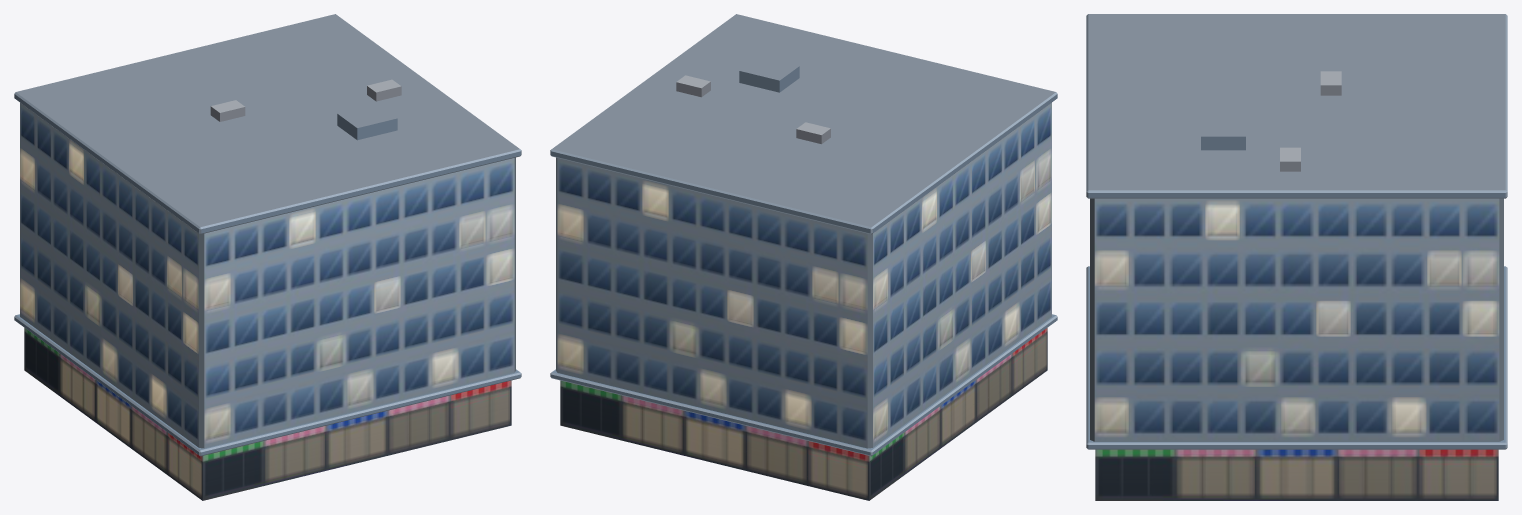
File: building-28x28x24.glb
The picture shows the model from 3 angles, left to right: view 1: azimuth 30°, elevation 25°; view 2: azimuth 150°, elevation 25°; view 3: azimuth 270°, elevation 25°; orthographic projection. The views are drawn at different scales.
Parts seen in each view (by area): view 1: building-28x28x24; view 2: building-28x28x24; view 3: building-28x28x24.
Boxes of the visible parts, x1=… form: building-28x28x24: x1=14, y1=14, x2=521, y2=500; building-28x28x24: x1=550, y1=14, x2=1057, y2=500; building-28x28x24: x1=1086, y1=14, x2=1507, y2=500.
Bounding box in the file's own units: 28 × 24 × 28.
1 material, 1 textured.
